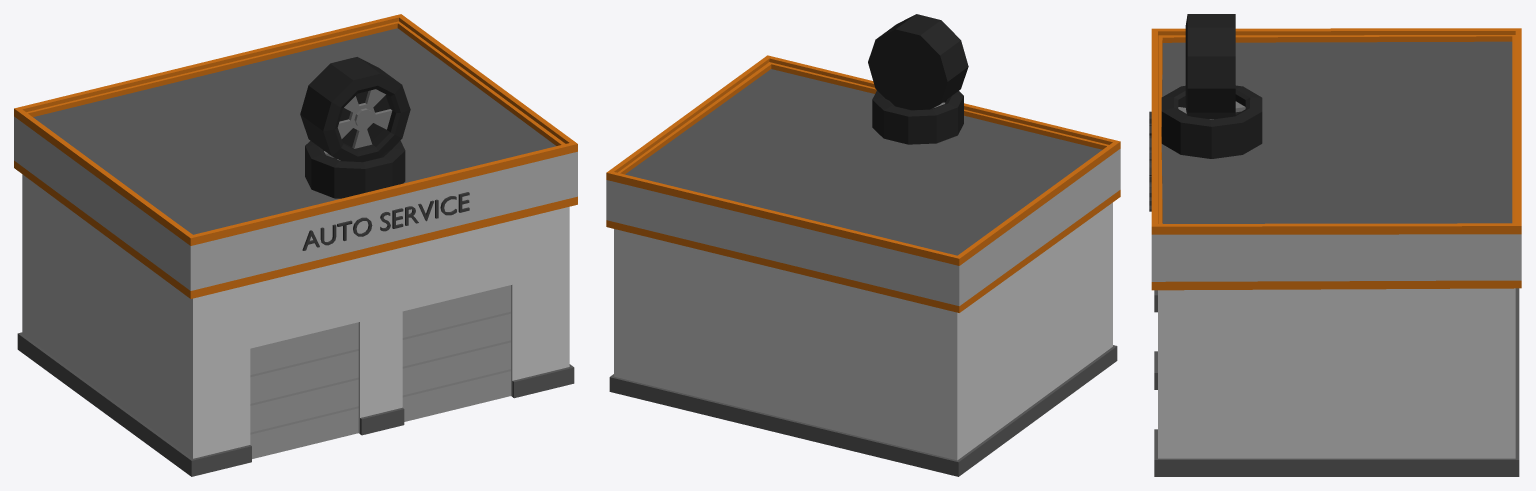
The model's file is AutoService_01.glb.
3 renders of one model, left to right at view 1: azimuth 30°, elevation 25°; view 2: azimuth 150°, elevation 25°; view 3: azimuth 270°, elevation 25°, orthographic. The views are drawn at different scales.
Visible parts, largest first — view 1: AutoService_01; view 2: AutoService_01; view 3: AutoService_01.
Part boxes in pixels (x1,y1,x2,y2): AutoService_01: [14, 14, 577, 476]; AutoService_01: [606, 14, 1120, 476]; AutoService_01: [1149, 14, 1521, 476].
Size of the model in its own units: 8.93 by 7.54 by 7.11.
Materials: 1 (1 with a texture image).
